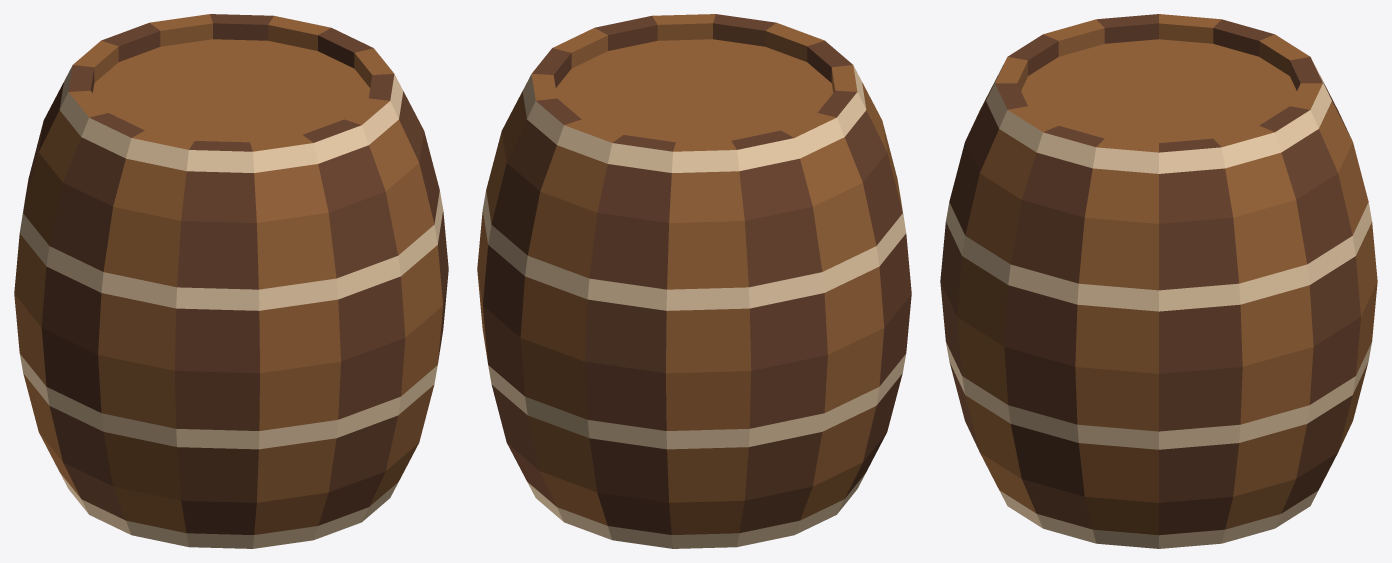
The model's file is Barrel.fbx.
3 renders of one model, left to right at view 1: azimuth 30°, elevation 25°; view 2: azimuth 150°, elevation 25°; view 3: azimuth 270°, elevation 25°, orthographic.
Visible parts, largest first — view 1: Barrel; view 2: Barrel; view 3: Barrel.
Part boxes in pixels (box(x1,y1,x2,y2)): Barrel: box(14, 14, 448, 548); Barrel: box(477, 14, 911, 548); Barrel: box(940, 14, 1377, 548).
Size of the model in its own units: 0.2 by 0.2 by 0.2.
